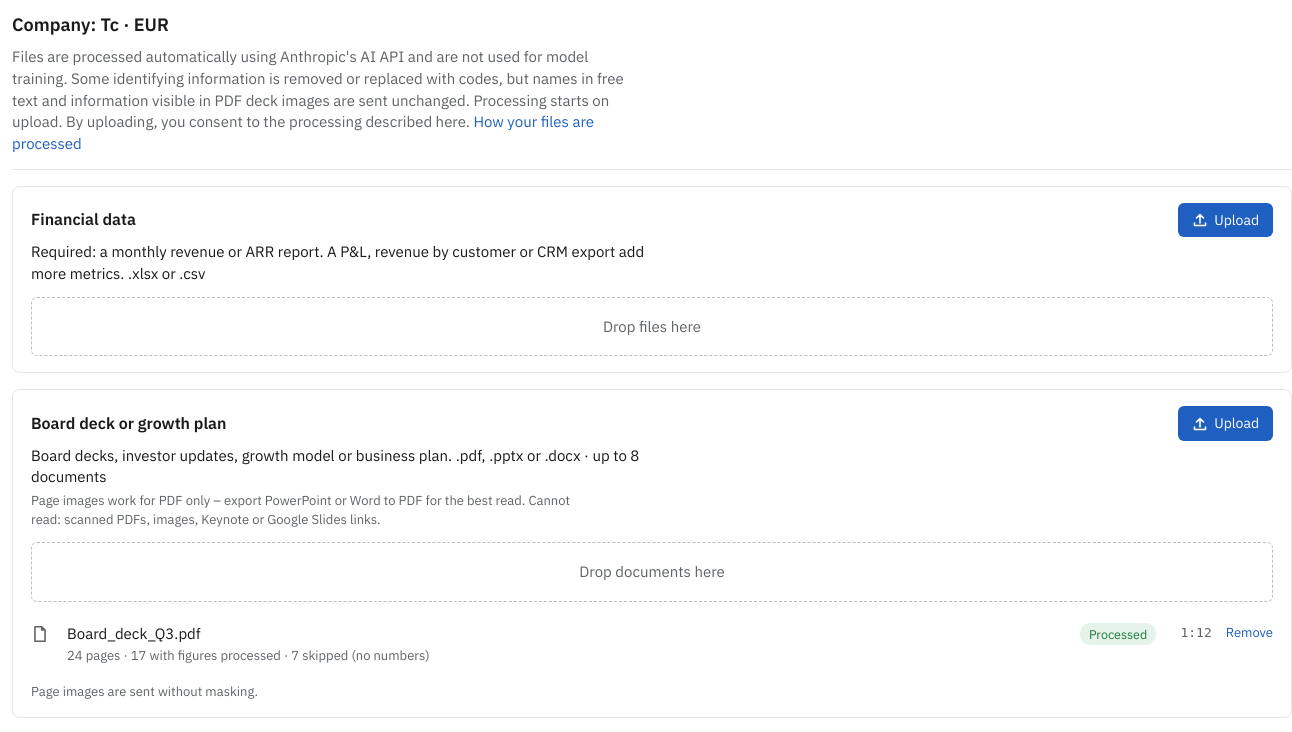
Test: one line per file, with its stage tag › Remove on a deck turns the same link, in place, into the confirmation; Remove there deletes
Later steps or results of the test are not shown.
Click the link "Remove" at (1249, 634), box [1226,624,1273,643]
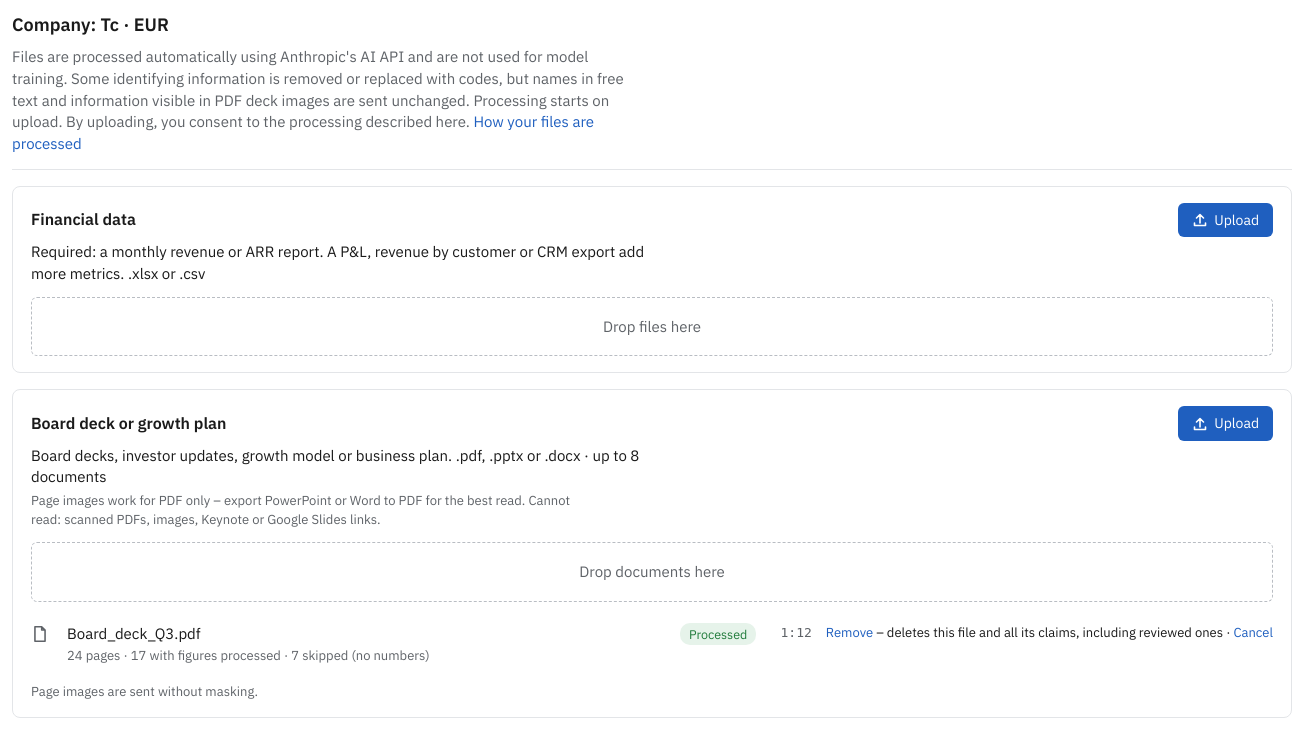
Result: the link with test id "file-remove" is gone
Result: the element with test id "file-remove-confirm" reads "Remove – deletes this file and all its claims, including reviewed ones · Cancel" at [826,624,1273,643]
